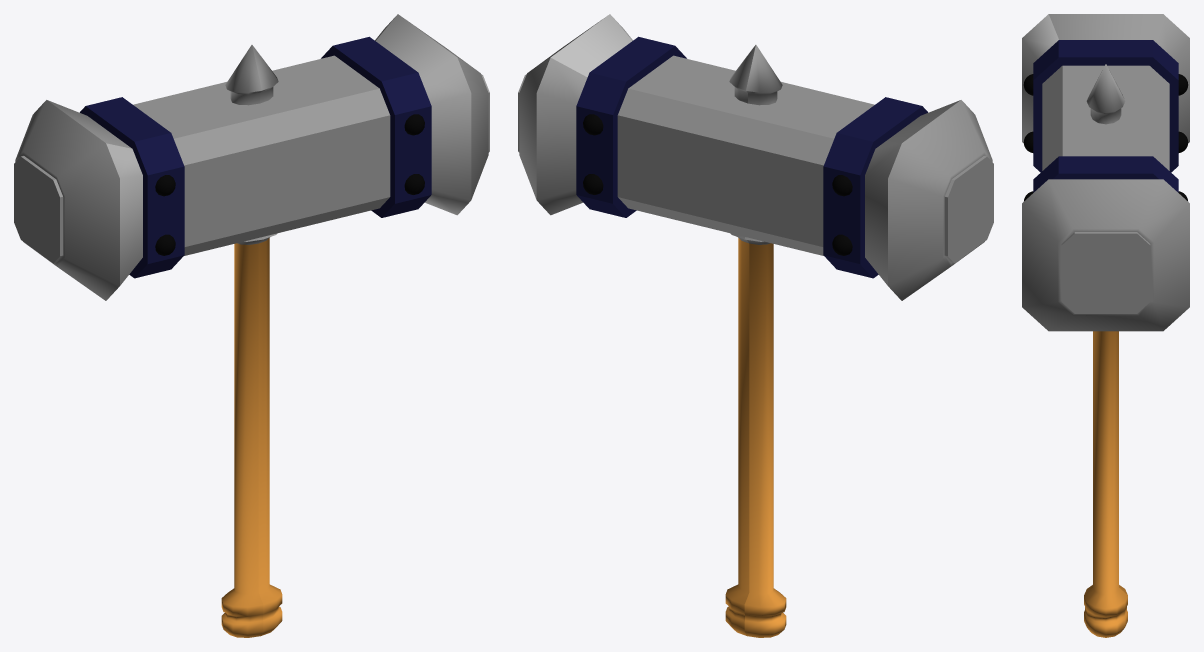
The model's file is Martillo.fbx.
3 views of the same model, side by side, from view 1: azimuth 30°, elevation 25°; view 2: azimuth 150°, elevation 25°; view 3: azimuth 270°, elevation 25° (orthographic). The views are drawn at different scales.
Parts seen in each view (by area): view 1: Martillo; view 2: Martillo; view 3: Martillo.
Boxes of the visible parts, x1=… form: Martillo: x1=14, y1=14, x2=489, y2=637; Martillo: x1=518, y1=14, x2=993, y2=637; Martillo: x1=1022, y1=14, x2=1189, y2=637.
Bounding box in the file's own units: 327 × 429 × 115.
